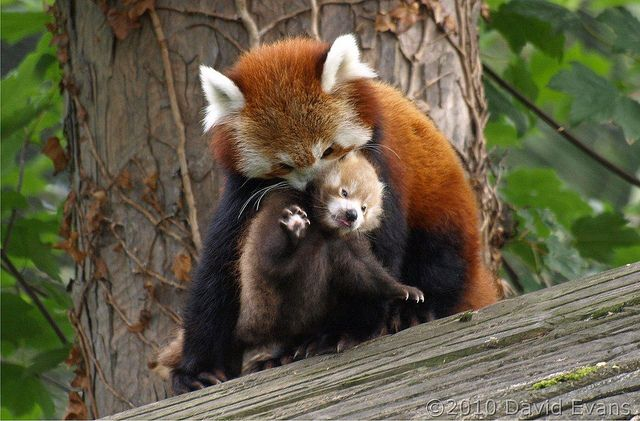Red panda: (182, 37, 377, 179), (310, 148, 396, 230)
